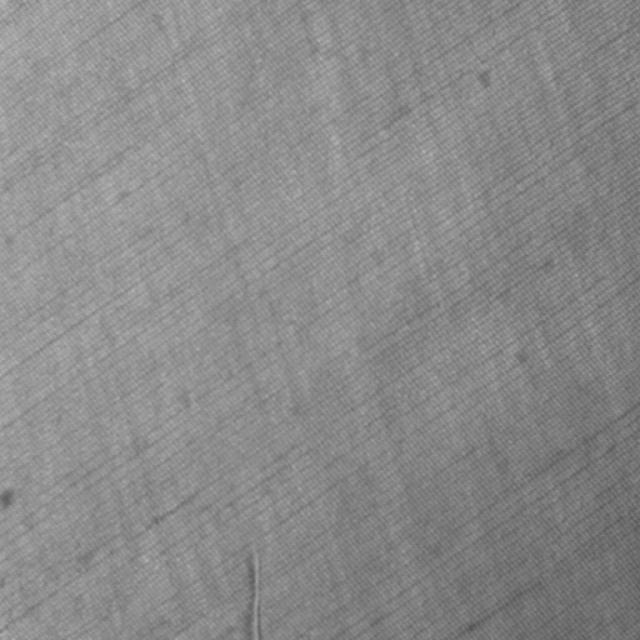objects: (241, 536, 268, 639)
